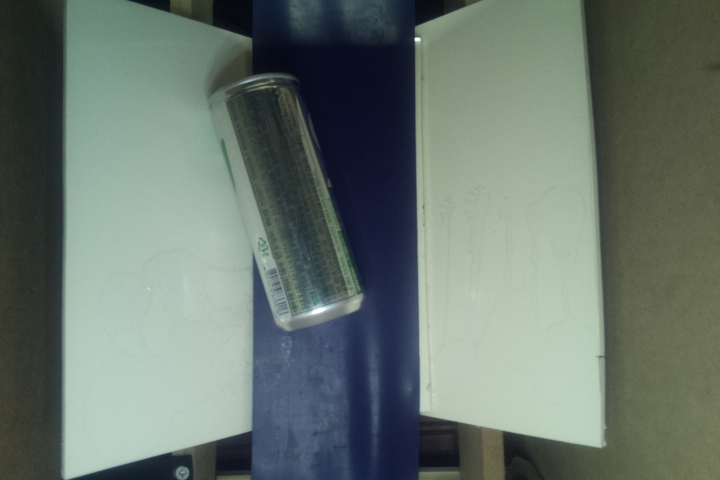can: (209, 72, 369, 329)
